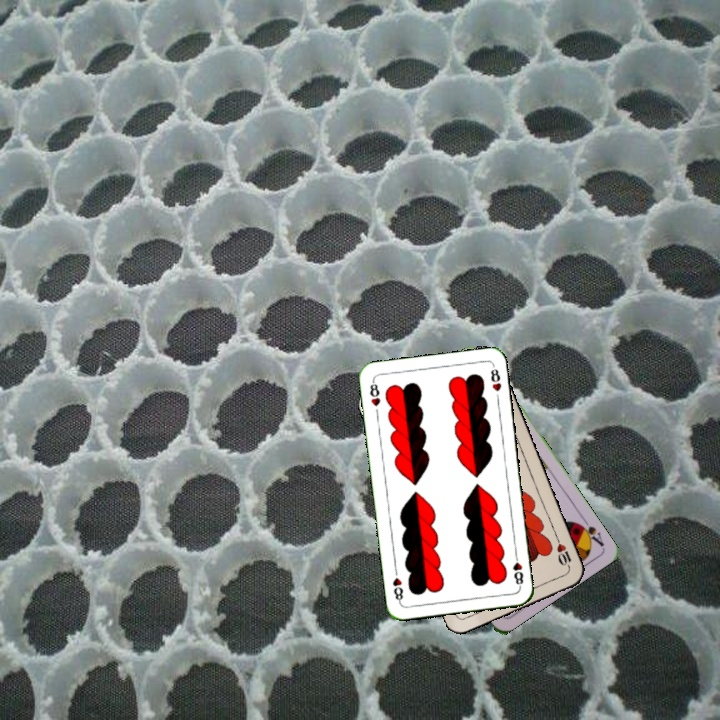H10: (552, 533, 574, 572)
H8: (509, 549, 526, 590), (365, 377, 383, 409)
SA: (573, 513, 607, 549)
